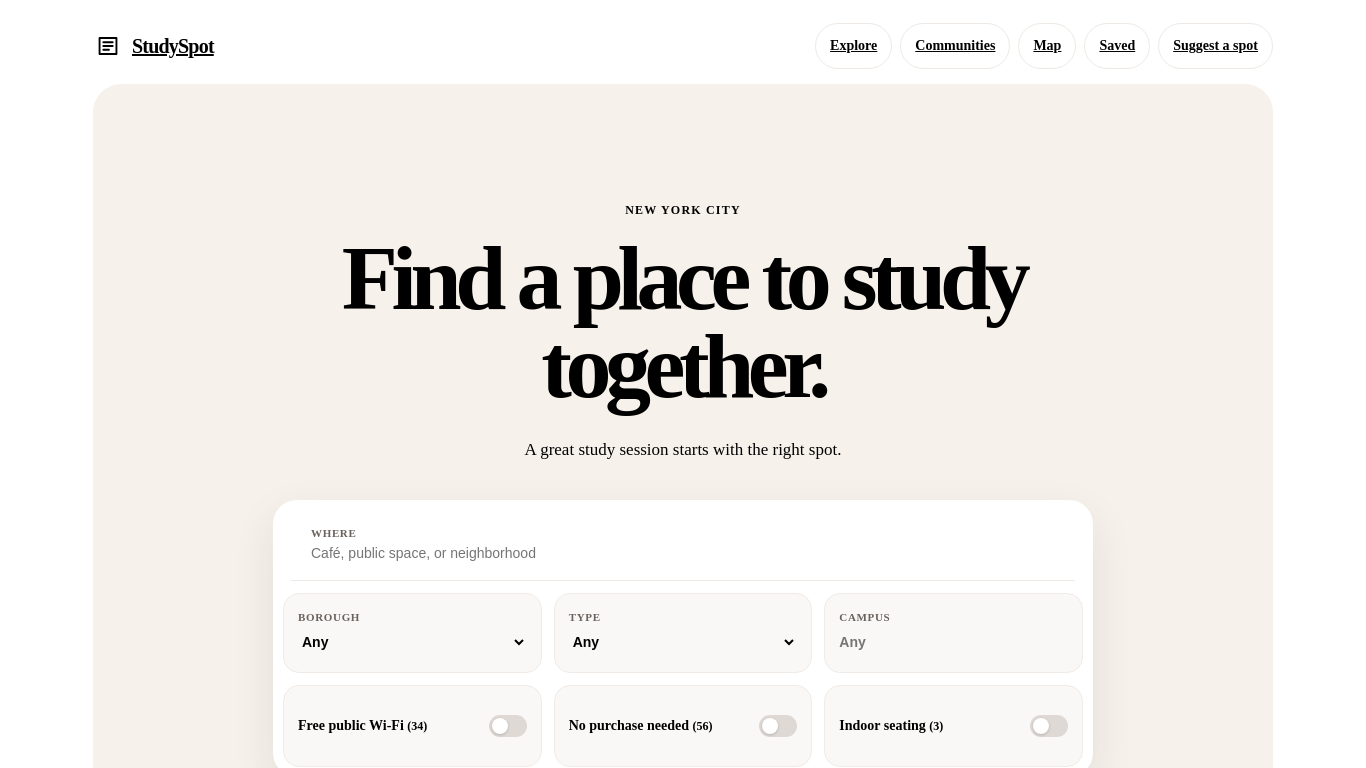
Scenario: the search box › keeps applying a word that is still showing when a filter changes
Step 1. Type "library" into the field labelled "Where" → (625,553), box [311, 544, 939, 563]
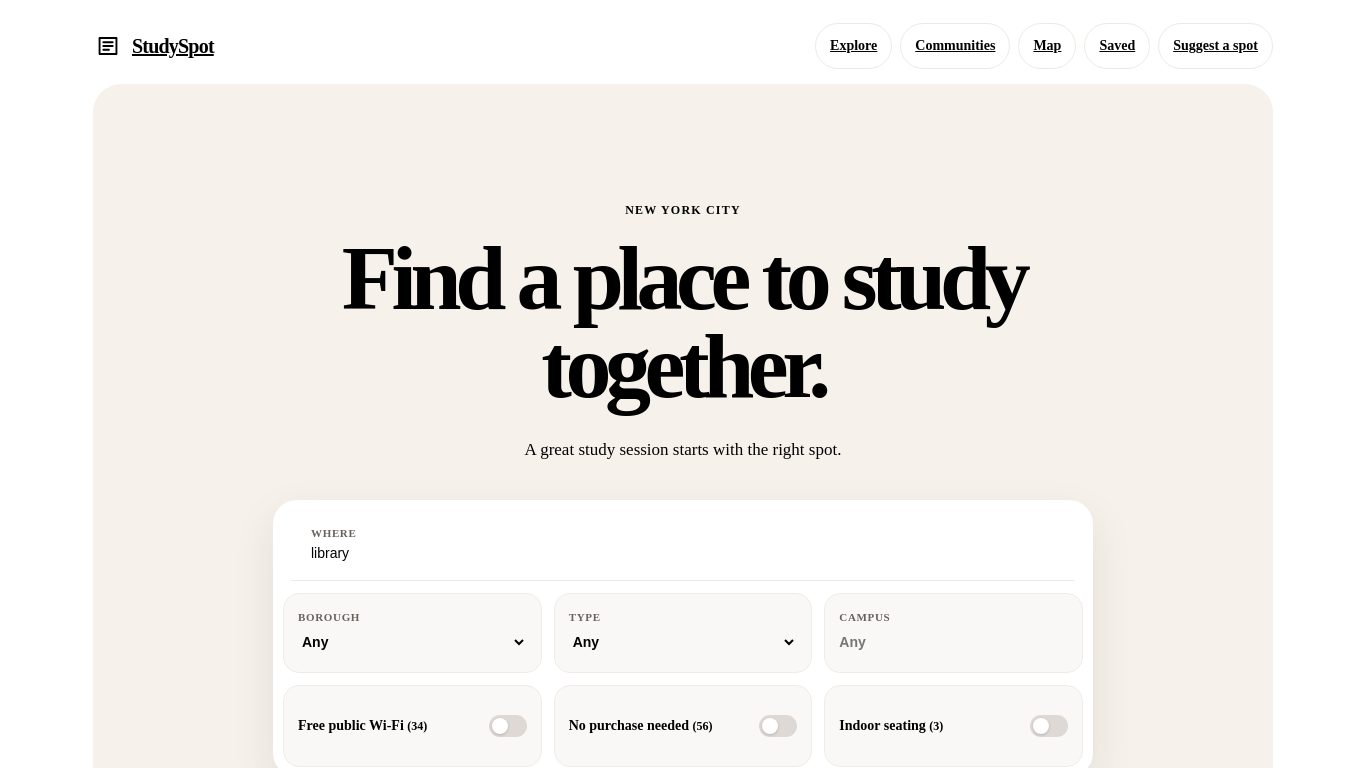
Step 2. Select "Bronx (48)" in the dropdown labelled "Borough" → (412,642), box [298, 628, 527, 656]
(page scrolled)
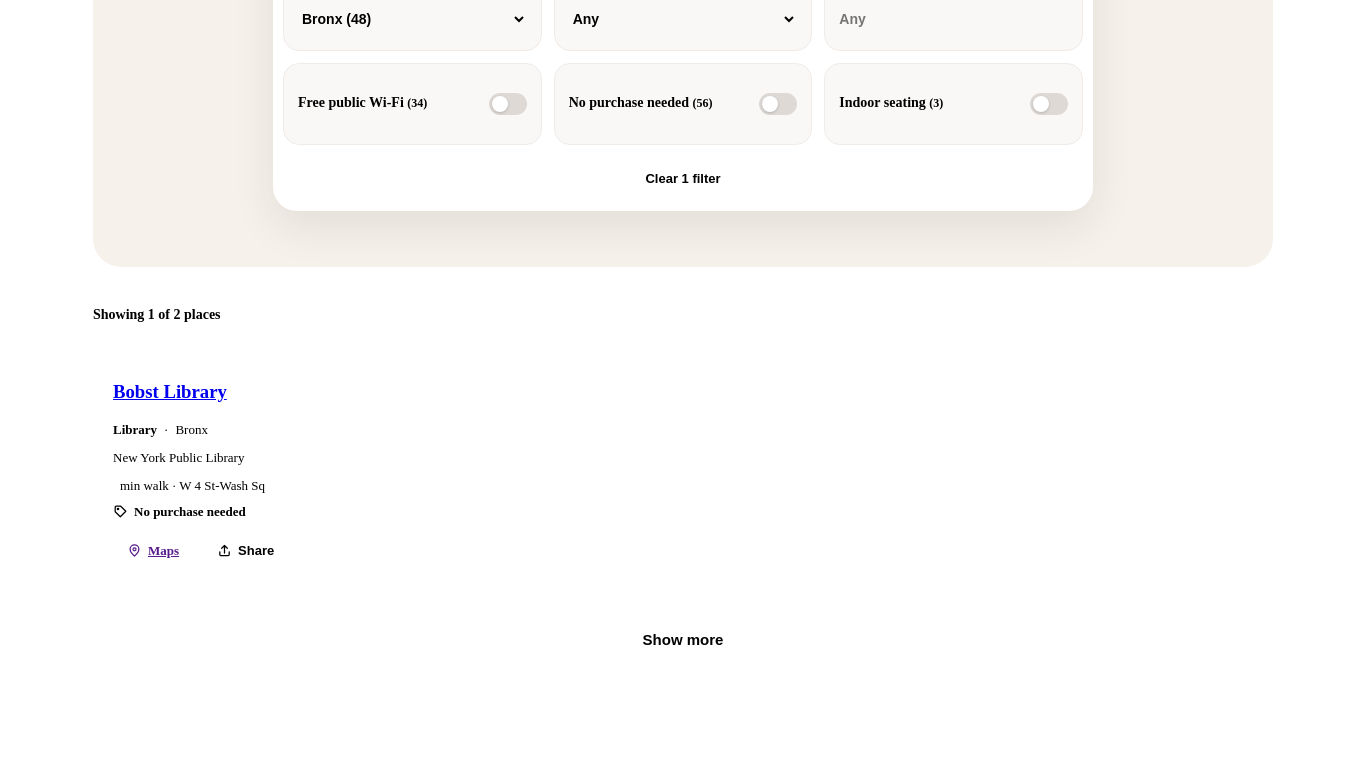
Now the link "Bobst Library" is shown, box [113, 381, 227, 402]
Now the text "Bronx" is shown, box [175, 422, 208, 438]
